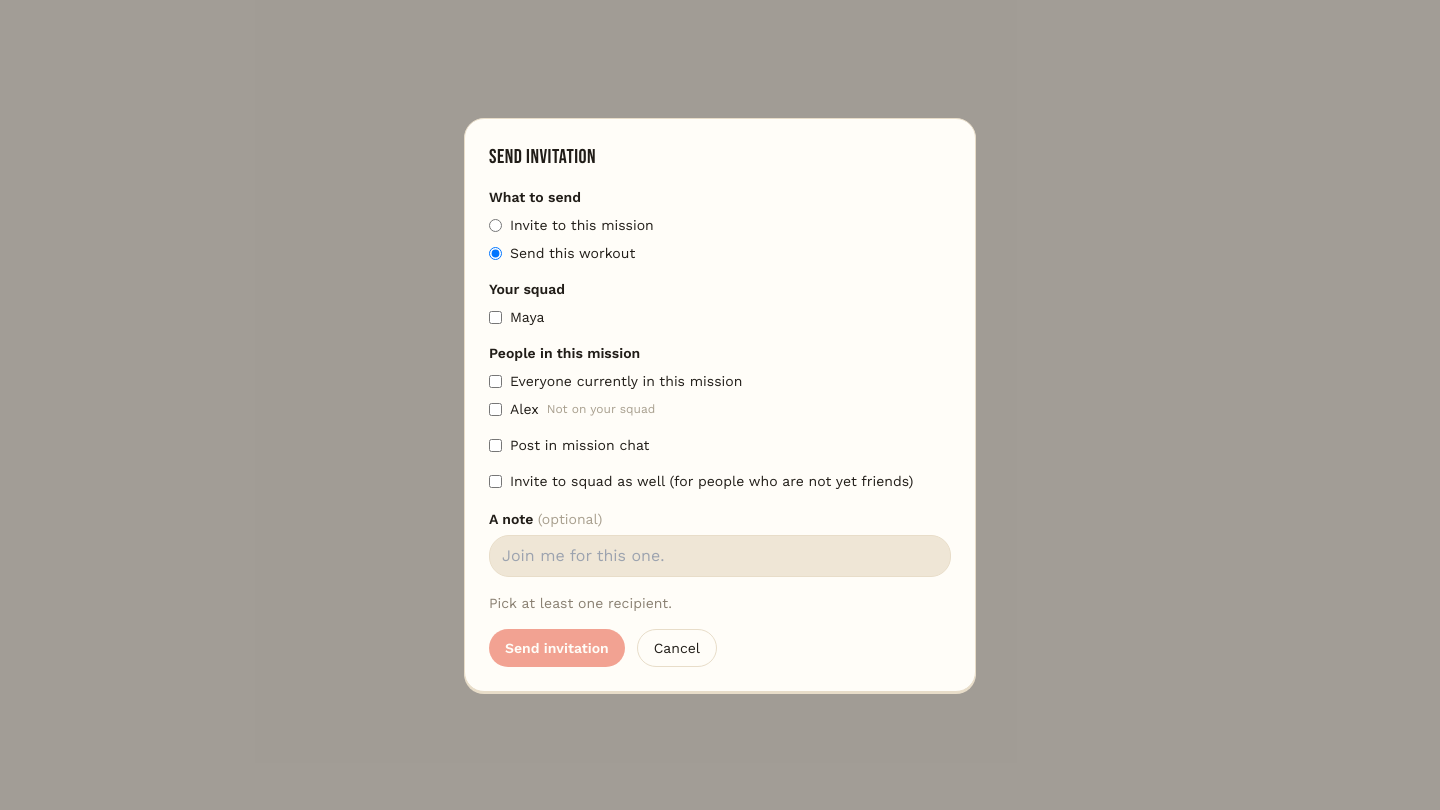
Test case: SendInvitationFlow › summarizes squad vs mission recipients and keeps chat posting separate
This screenshot has width=1440, height=810.
Expected: the text "Maya" is shown, [489, 309, 544, 325]
Expected: the text "Invite to this mission" is shown, [489, 217, 654, 233]
Click the checkbox labelled "Maya": {"x": 496, "y": 317} [489, 310, 502, 324]
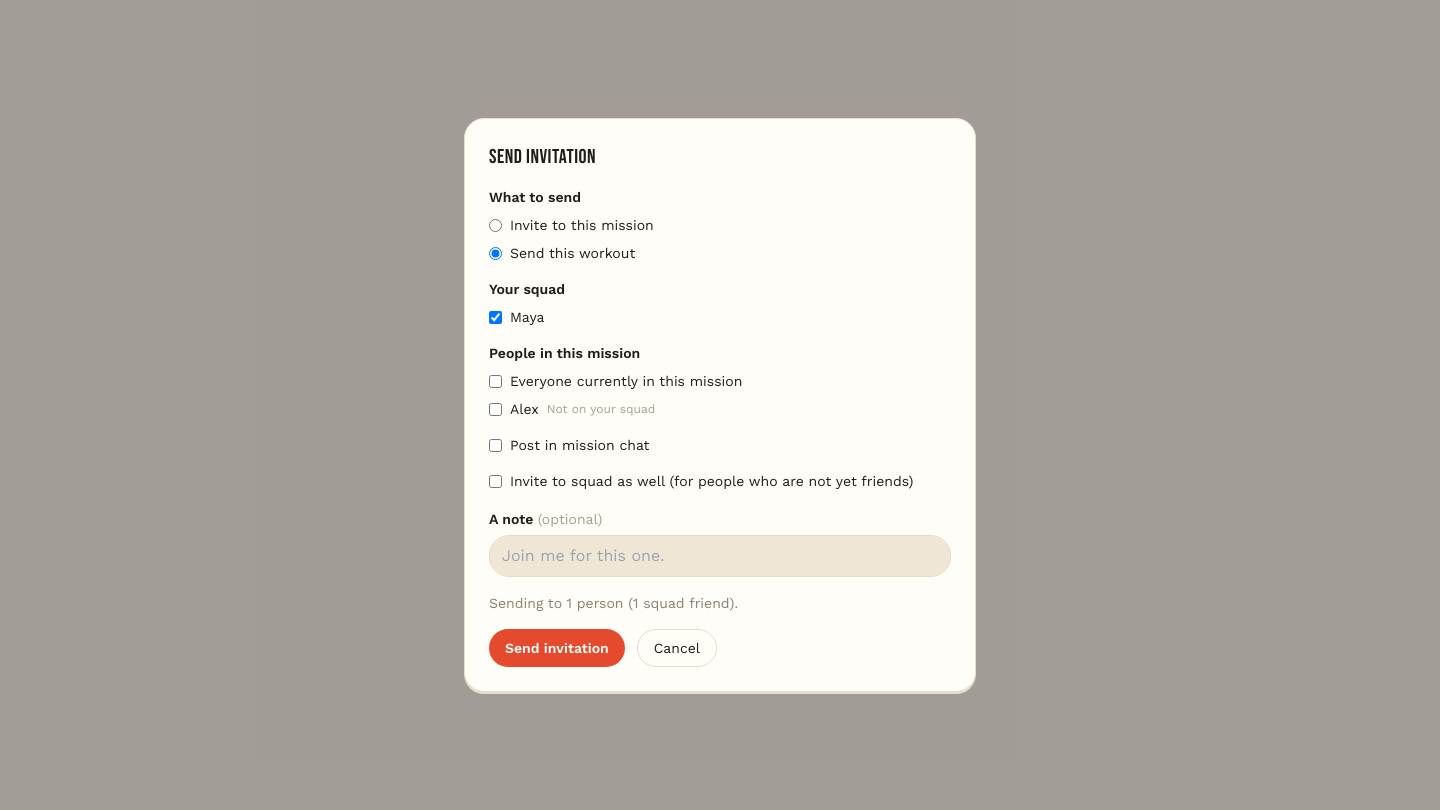
Click the checkbox labelled "Alex Not on your squad": {"x": 496, "y": 409} [489, 402, 502, 416]
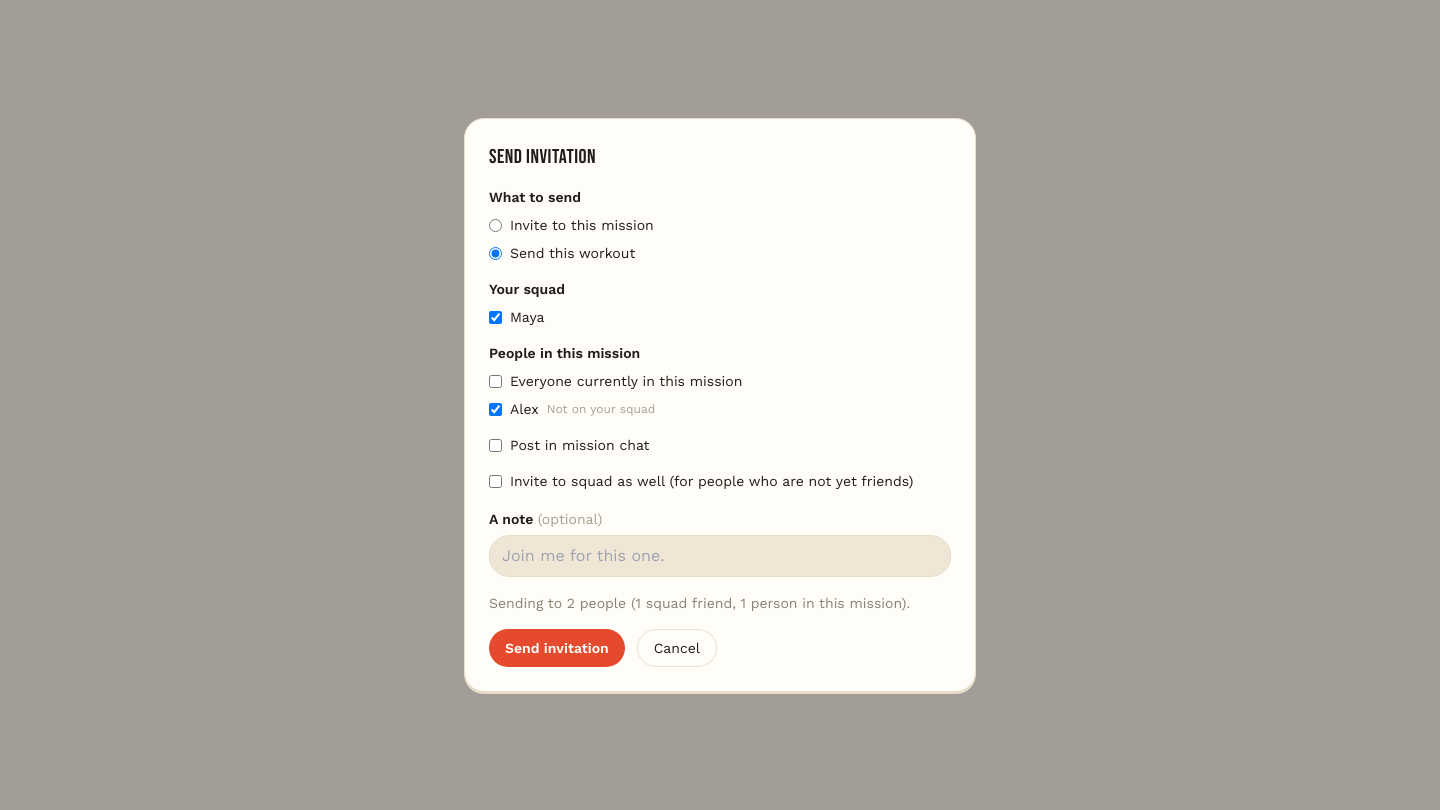
Click the checkbox labelled "Post in mission chat": {"x": 496, "y": 445} [489, 438, 502, 452]
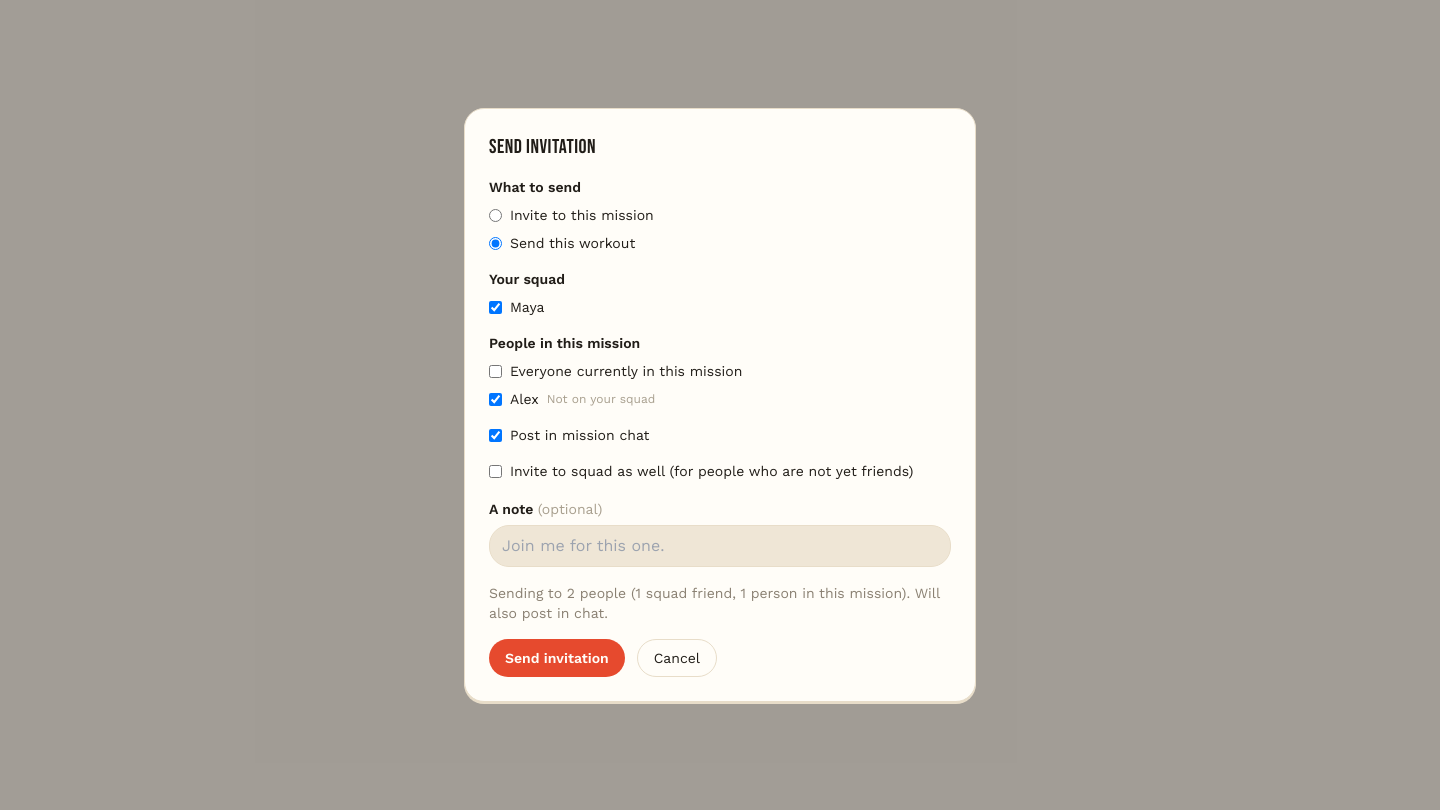
Expected: the text "Sending to 2 people (1 squad friend, 1 person in this mission). Will also post in chat." is shown, [489, 585, 940, 621]
